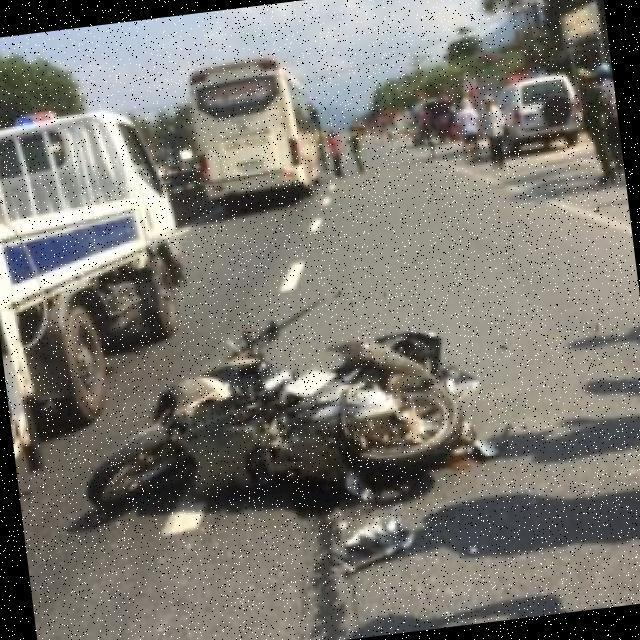accident: (71, 286, 511, 581)
